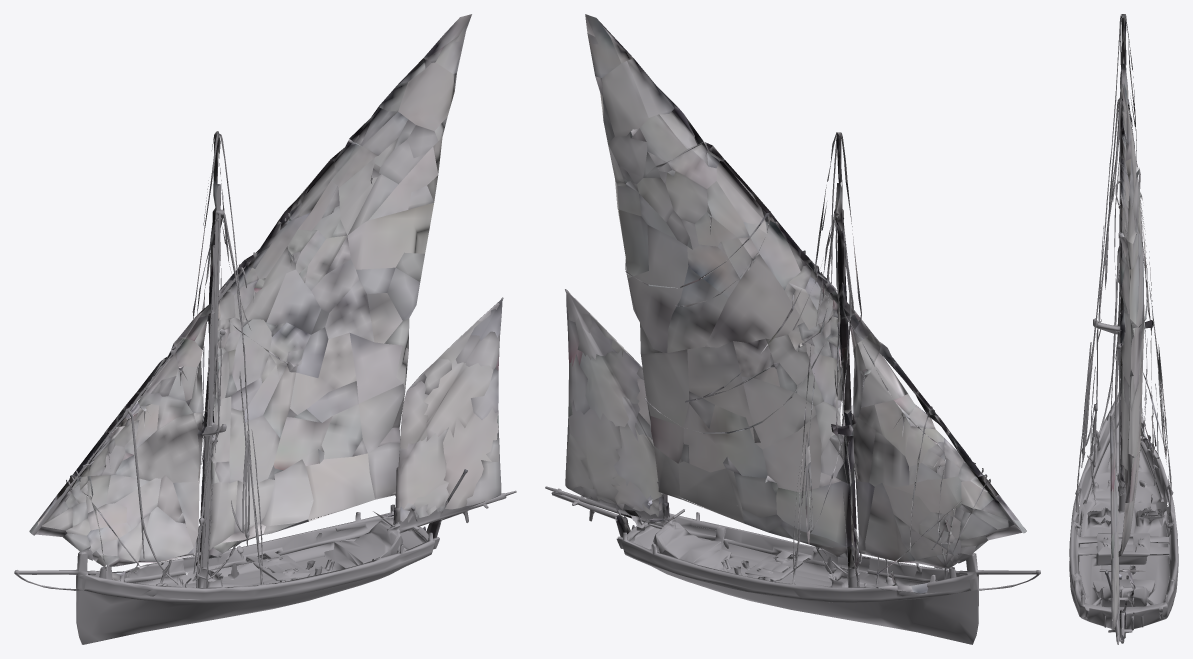
Rendered from canoa.glb.
3 views of the same model, side by side, from view 1: azimuth 30°, elevation 25°; view 2: azimuth 150°, elevation 25°; view 3: azimuth 270°, elevation 25° (orthographic). The views are drawn at different scales.
Parts seen in each view (by area): view 1: Vela, lite_static, Vela_mezena; view 2: Vela, lite_static, Vela_mezena; view 3: lite_static, Vela, Vela_mezena.
Part boxes in pixels (left/top/right/bottom): Vela: left=29, top=14, right=471, bottom=580; lite_static: left=14, top=134, right=516, bottom=644; Vela_mezena: left=390, top=299, right=502, bottom=523; Vela: left=553, top=14, right=1026, bottom=593; lite_static: left=545, top=132, right=1040, bottom=644; Vela_mezena: left=563, top=290, right=669, bottom=518; lite_static: left=1069, top=15, right=1178, bottom=644; Vela: left=1119, top=14, right=1168, bottom=640; Vela_mezena: left=1105, top=416, right=1121, bottom=634.
Size of the model in its own units: 12.65 by 12.98 by 2.19.
Materials: 2 (1 with a texture image).
